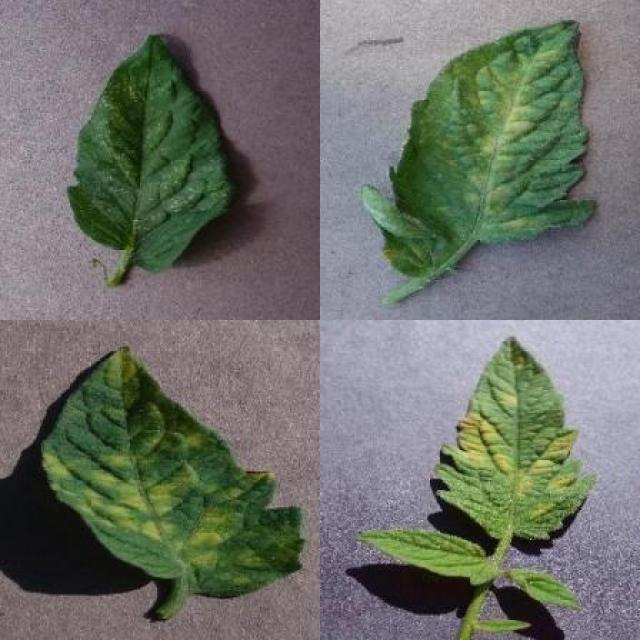Healthy: (360, 527, 489, 583)
Leaf Mold: (41, 345, 305, 601), (362, 20, 599, 277), (432, 332, 598, 541)
Spider Mites: (68, 32, 228, 275)
